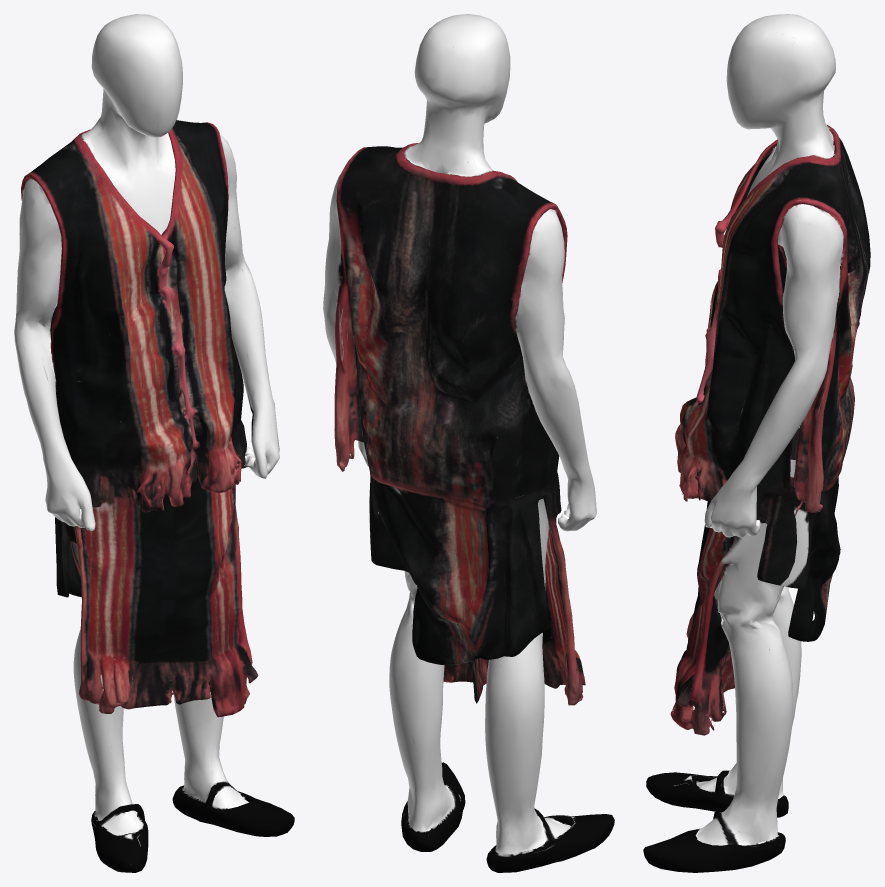
The model's file is Gia_rai_nam_00001.glb.
3 renders of one model, left to right at view 1: azimuth 30°, elevation 25°; view 2: azimuth 150°, elevation 25°; view 3: azimuth 270°, elevation 25°, orthographic. The views are drawn at different scales.
Size of the model in its own units: 0.2677 by 0.8677 by 0.2202.
1 material, 1 textured.
